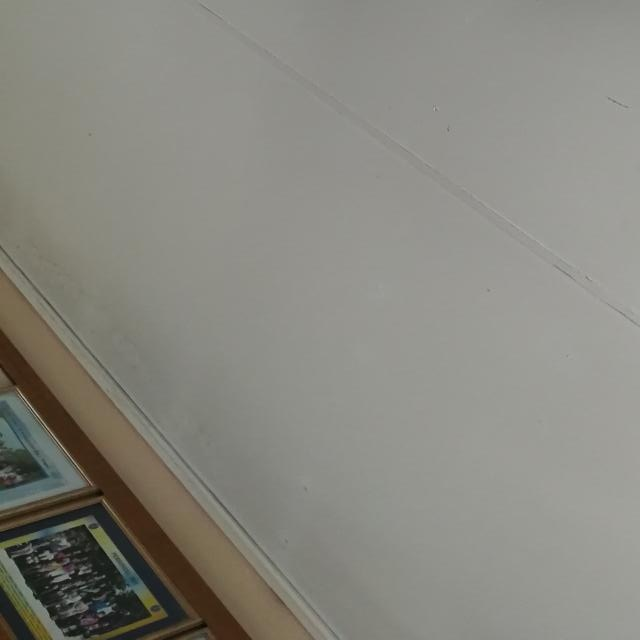fluorescent tube: (198, 0, 640, 194)
